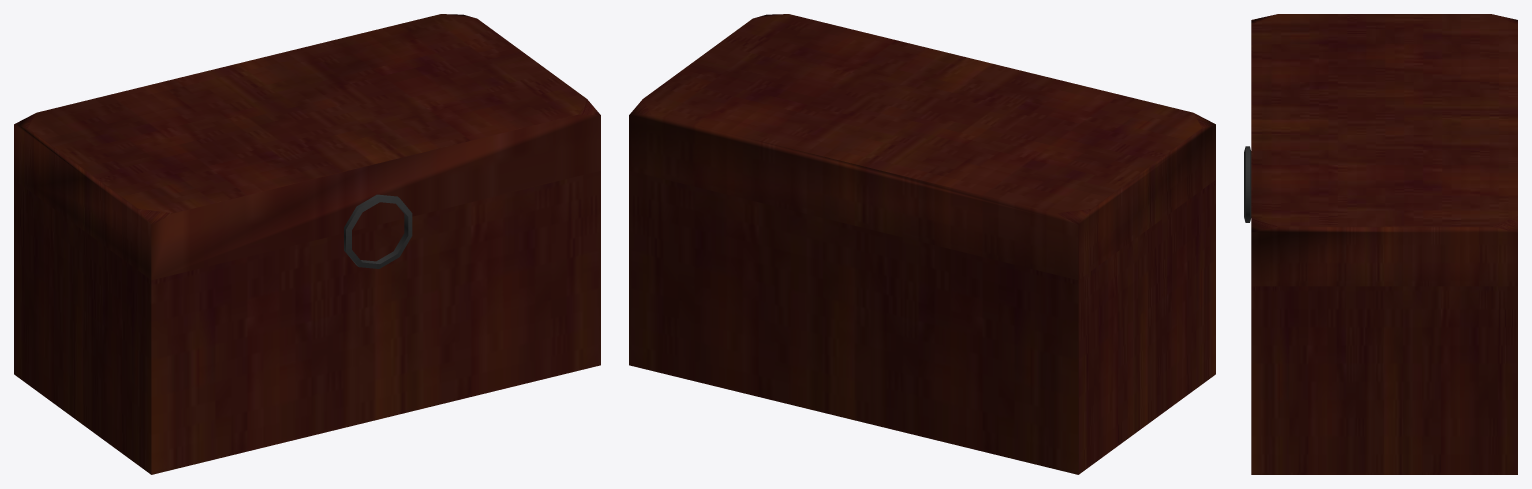
3 renders of one model, left to right at view 1: azimuth 30°, elevation 25°; view 2: azimuth 150°, elevation 25°; view 3: azimuth 270°, elevation 25°, orthographic. The views are drawn at different scales.
Parts seen in each view (by area): view 1: Box, pCube132, pCube131; view 2: Box, pCube132; view 3: pCube132, Box, pCube131.
Part boxes in pixels (left/top/right/bottom): Box: left=14, top=170, right=600, bottom=474; pCube132: left=14, top=14, right=600, bottom=280; pCube131: left=344, top=194, right=412, bottom=268; Box: left=629, top=170, right=1215, bottom=474; pCube132: left=629, top=14, right=1215, bottom=280; pCube132: left=1251, top=14, right=1517, bottom=286; Box: left=1251, top=286, right=1517, bottom=474; pCube131: left=1244, top=146, right=1251, bottom=222.
Bounding box in the file's own units: 0.2582 × 0.1406 × 0.1406.
Materials: 2 (1 with a texture image).
